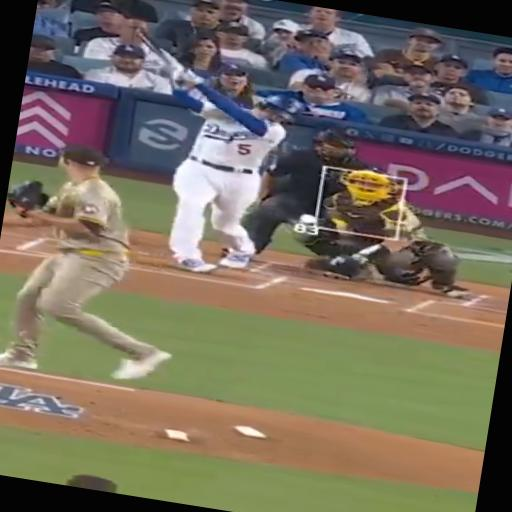bat: (136, 26, 186, 79)
